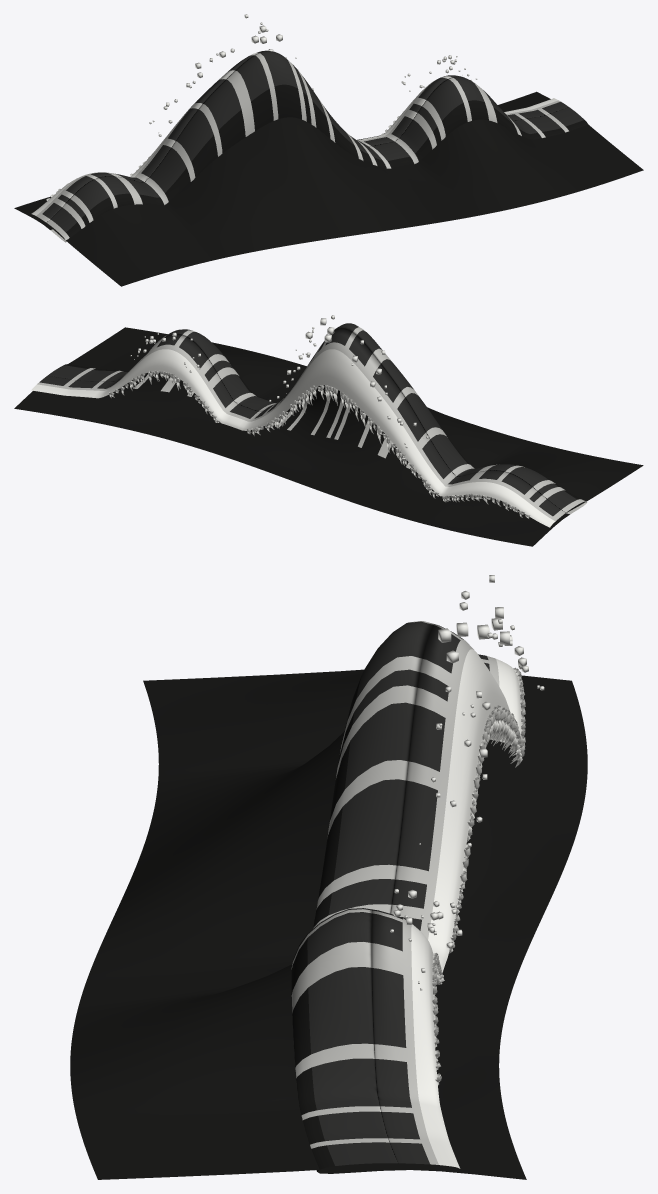
The model's file is prop-great-wave.glb.
3 views of the same model, one above another, from view 1: azimuth 30°, elevation 25°; view 2: azimuth 150°, elevation 25°; view 3: azimuth 270°, elevation 25° (orthographic). The views are drawn at different scales.
Parts seen in each view (by area): view 1: great-wave; view 2: great-wave; view 3: great-wave.
Part boxes in pixels (bbox=[...]): great-wave: bbox=[14, 14, 643, 286]; great-wave: bbox=[14, 315, 643, 546]; great-wave: bbox=[70, 575, 587, 1179].
Size of the model in its own units: 240 by 69.99 by 105.
1 material, 1 textured.
